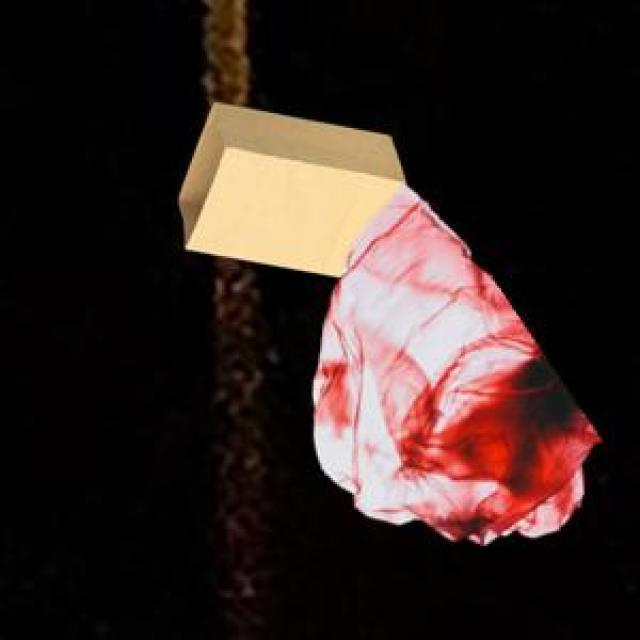paper: (175, 98, 401, 273)
